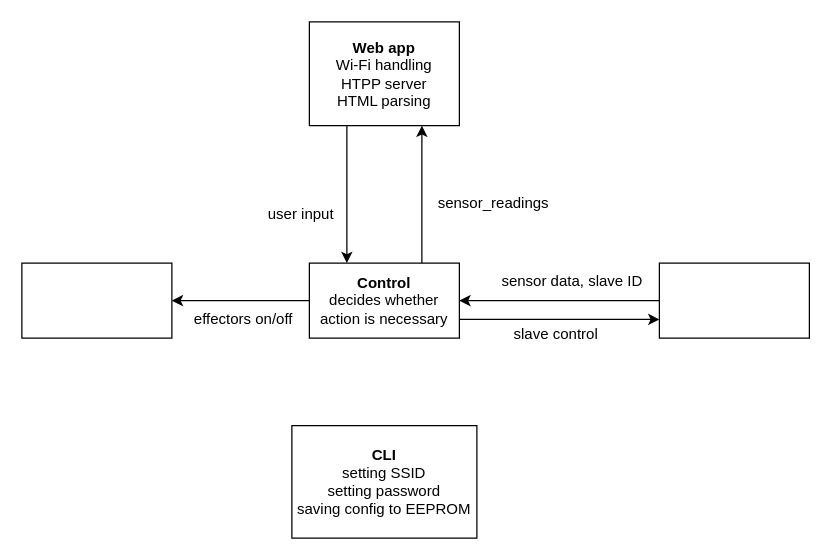
This 831x560 diagram has some shape labels left out. Each missing label, with the centre of its shape:
"Effectors controls connected effectors" goes at pixel 96 300.
"Slaves CAN handling passing sensor data" goes at pixel 733 300.
